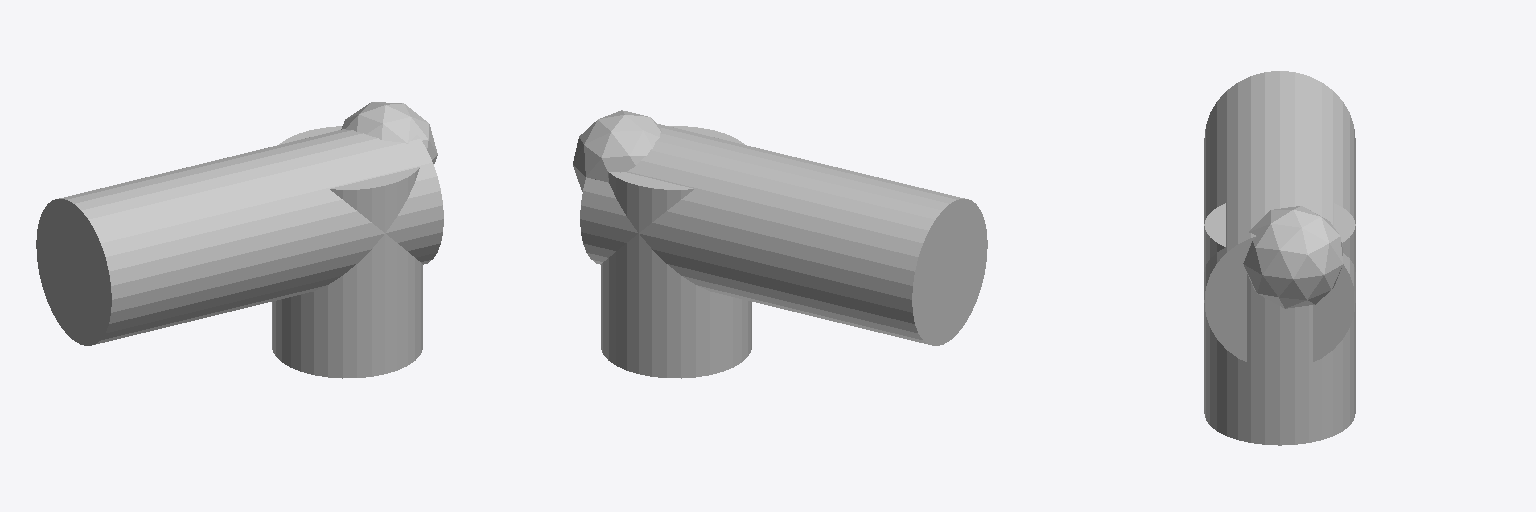
The model's file is item_direction.obj.
3 renders of one model, left to right at view 1: azimuth 30°, elevation 25°; view 2: azimuth 150°, elevation 25°; view 3: azimuth 270°, elevation 25°, orthographic.
Visible parts, largest first — view 1: Cylinder.001; view 2: Cylinder.001; view 3: Cylinder.001.
Part boxes in pixels (x1,y1,x2,y2): Cylinder.001: (36, 102, 443, 378); Cylinder.001: (573, 110, 987, 378); Cylinder.001: (1204, 71, 1355, 445).
Size of the model in its own units: 1.13 by 0.672 by 0.4078.